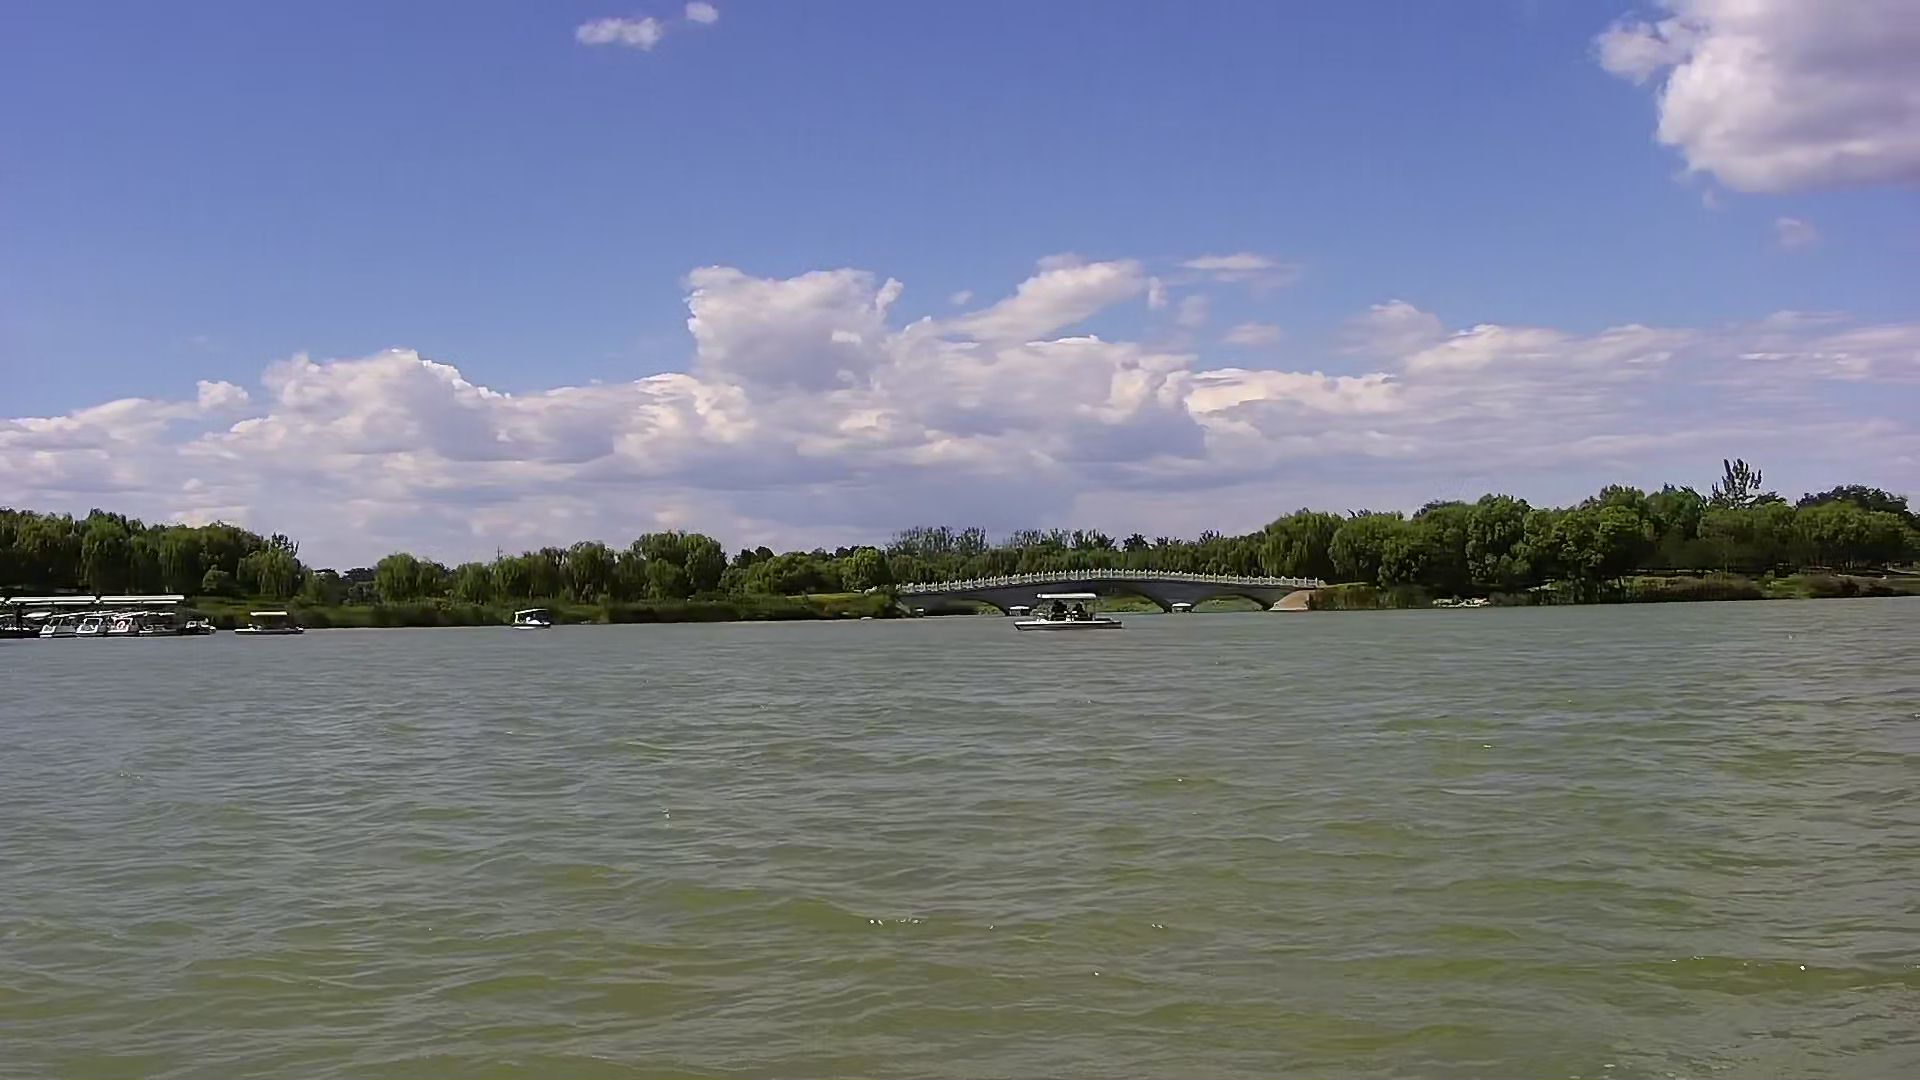boat: (1009, 592, 1145, 644), (235, 603, 313, 636), (505, 603, 556, 640)
bridge: (885, 564, 1331, 618)
